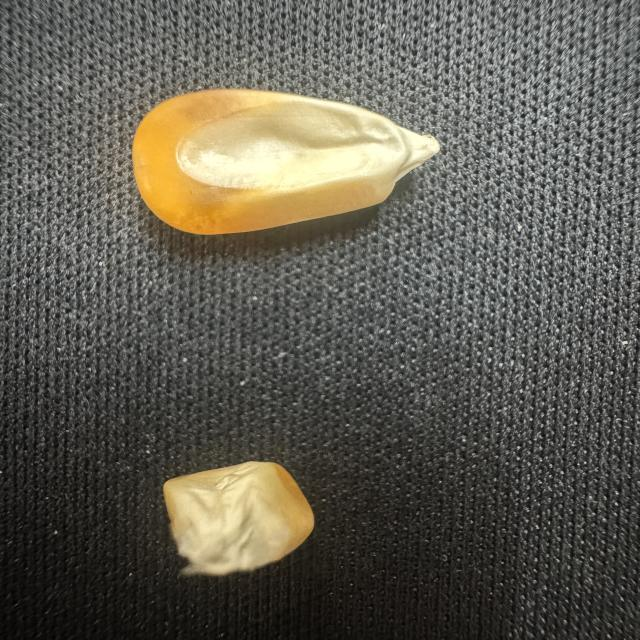Bad-Seed: (140, 452, 325, 590)
Good-Seed: (123, 81, 448, 244)
